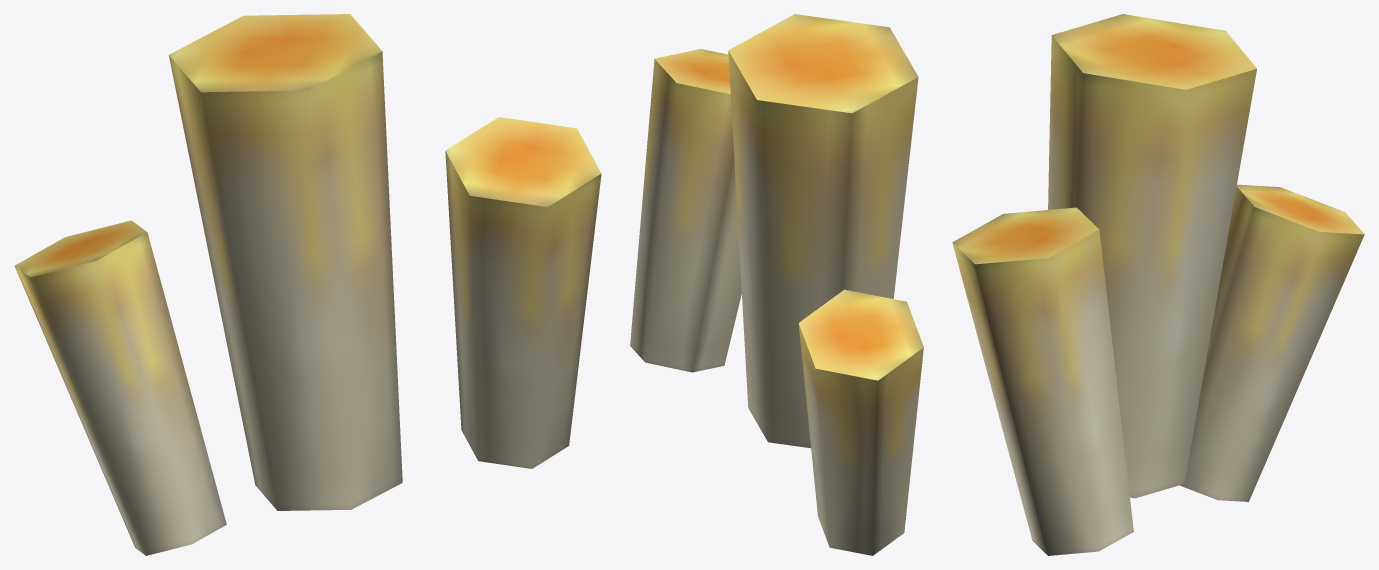
The model's file is Area10_19.fbx.
3 views of the same model, side by side, from view 1: azimuth 30°, elevation 25°; view 2: azimuth 150°, elevation 25°; view 3: azimuth 270°, elevation 25° (orthographic). The views are drawn at different scales.
Parts seen in each view (by area): view 1: Area10_19; view 2: Area10_19; view 3: Area10_19.
Part boxes in pixels (<box>): Area10_19: <box>14,14,601,555</box>; Area10_19: <box>630,14,923,555</box>; Area10_19: <box>952,14,1364,555</box>.
Size of the model in its own units: 43.39 by 49.87 by 37.89.
